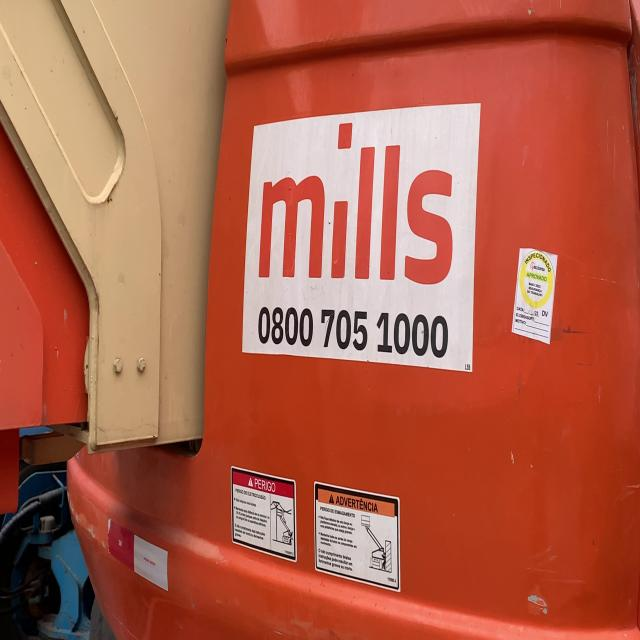Adesivos: (241, 100, 484, 382)
